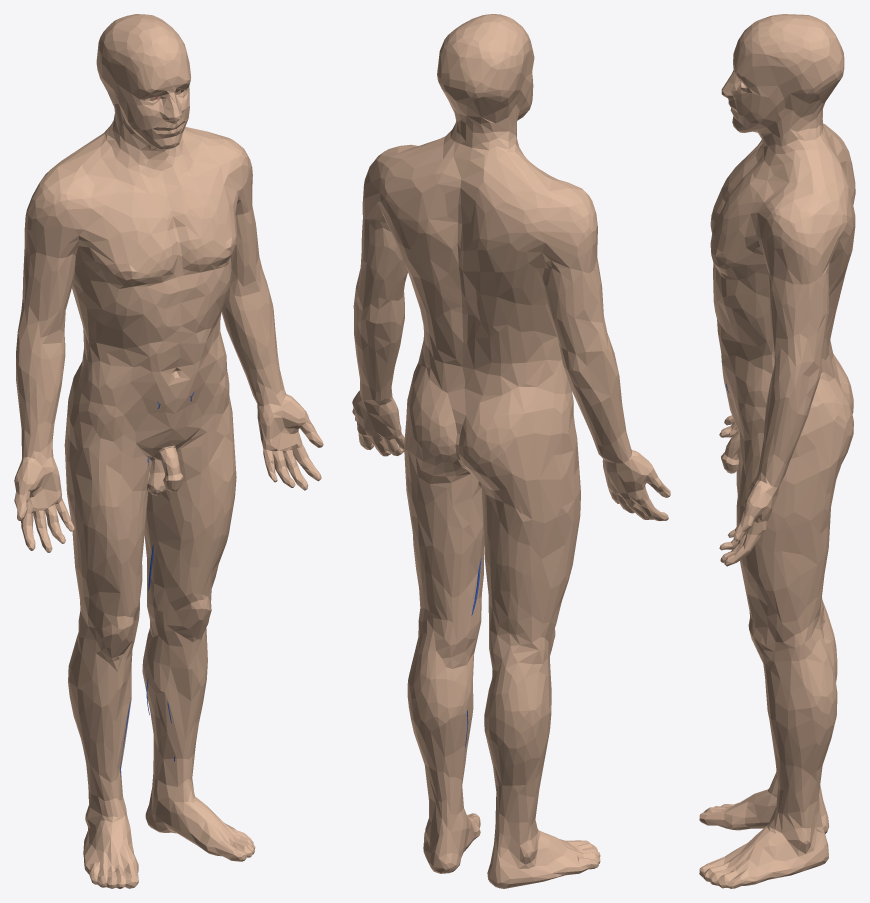
File: vessels.glb
3 renders of one model, left to right at view 1: azimuth 30°, elevation 25°; view 2: azimuth 150°, elevation 25°; view 3: azimuth 270°, elevation 25°, orthographic. The views are drawn at different scales.
Visible parts, largest first — view 1: skin; view 2: skin; view 3: skin.
Boxes of the visible parts, left/top/right/bottom form: skin: left=14, top=14, right=323, bottom=888; skin: left=352, top=14, right=670, bottom=888; skin: left=699, top=14, right=855, bottom=888.
Bounding box in the file's own units: 0.6673 × 1.72 × 0.2918.
